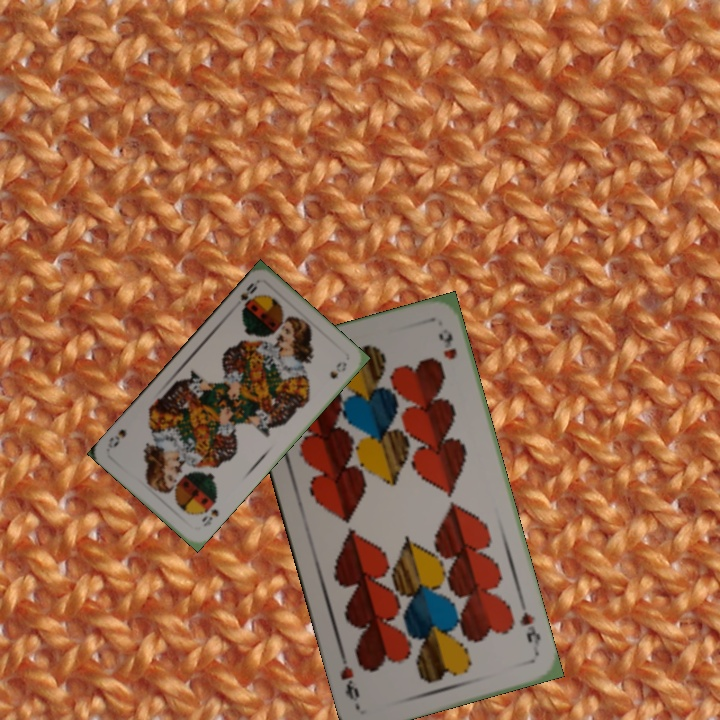H9: (516, 607, 544, 657)
SO: (236, 277, 261, 314), (198, 497, 221, 529)
